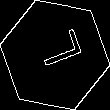L_W: (27, 32, 83, 78)
